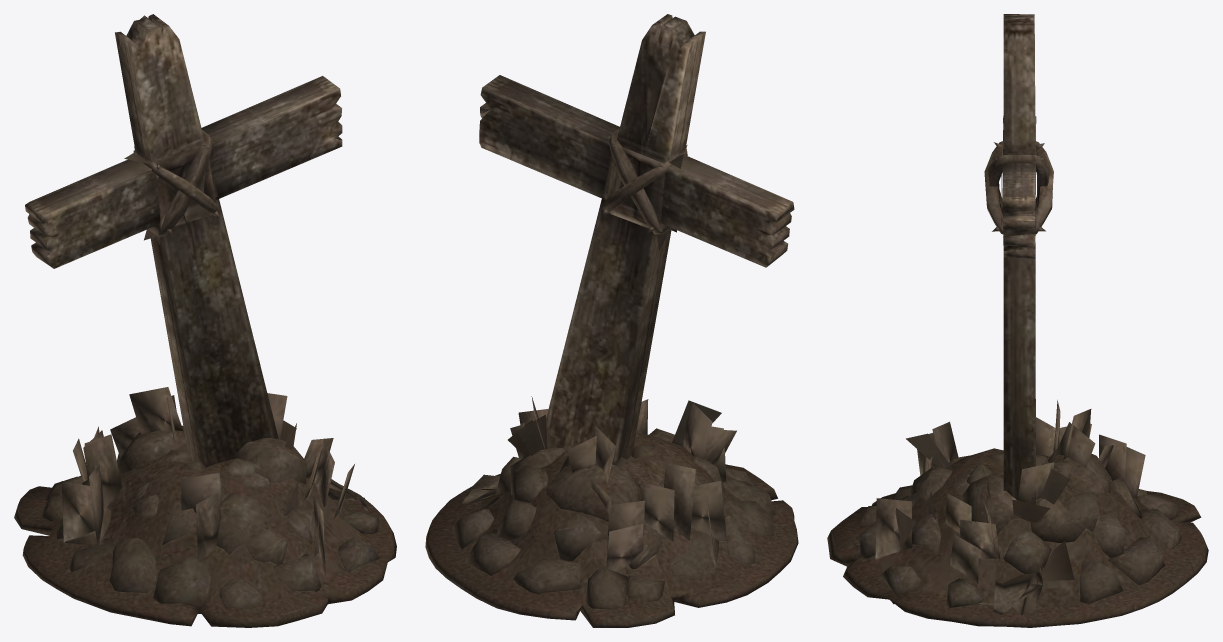
File: h_gravemarker_A.glb
The picture shows the model from 3 angles, left to right: view 1: azimuth 30°, elevation 25°; view 2: azimuth 150°, elevation 25°; view 3: azimuth 270°, elevation 25°; orthographic projection. The views are drawn at different scales.
Parts seen in each view (by area): view 1: h_gravemarker_A; view 2: h_gravemarker_A; view 3: h_gravemarker_A.
Part boxes in pixels (x1,y1,x2,y2): h_gravemarker_A: (14,14,396,627); h_gravemarker_A: (425,14,798,627); h_gravemarker_A: (827,14,1208,627).
Size of the model in its own units: 0.7801 by 1.2 by 0.8104.
1 material, 1 textured.
